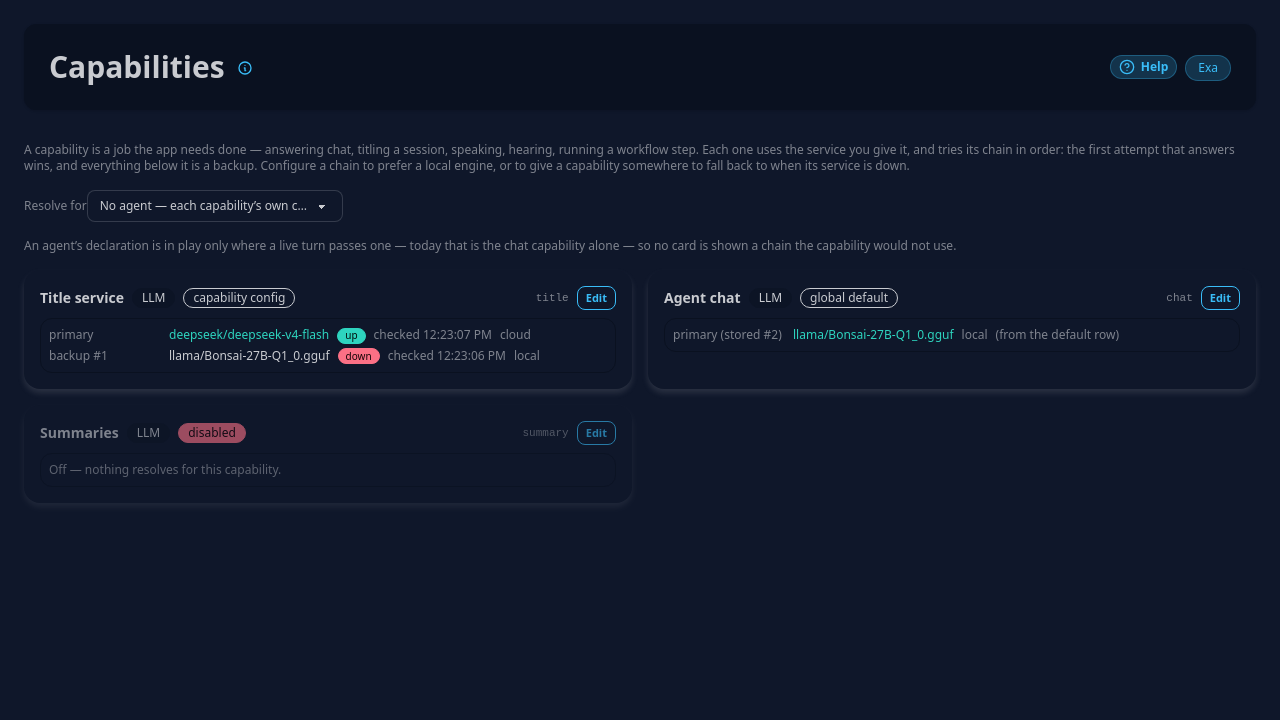
Test: ProviderCapabilities (the editor) › picks an attempt’s MODEL from the curated list for its provider, sending the model id
This screenshot has width=1280, height=720.
Later steps or results of the test are not shown.
Click the button "Edit" in the row of "capability config" at [596, 298], box [577,286,616,310]
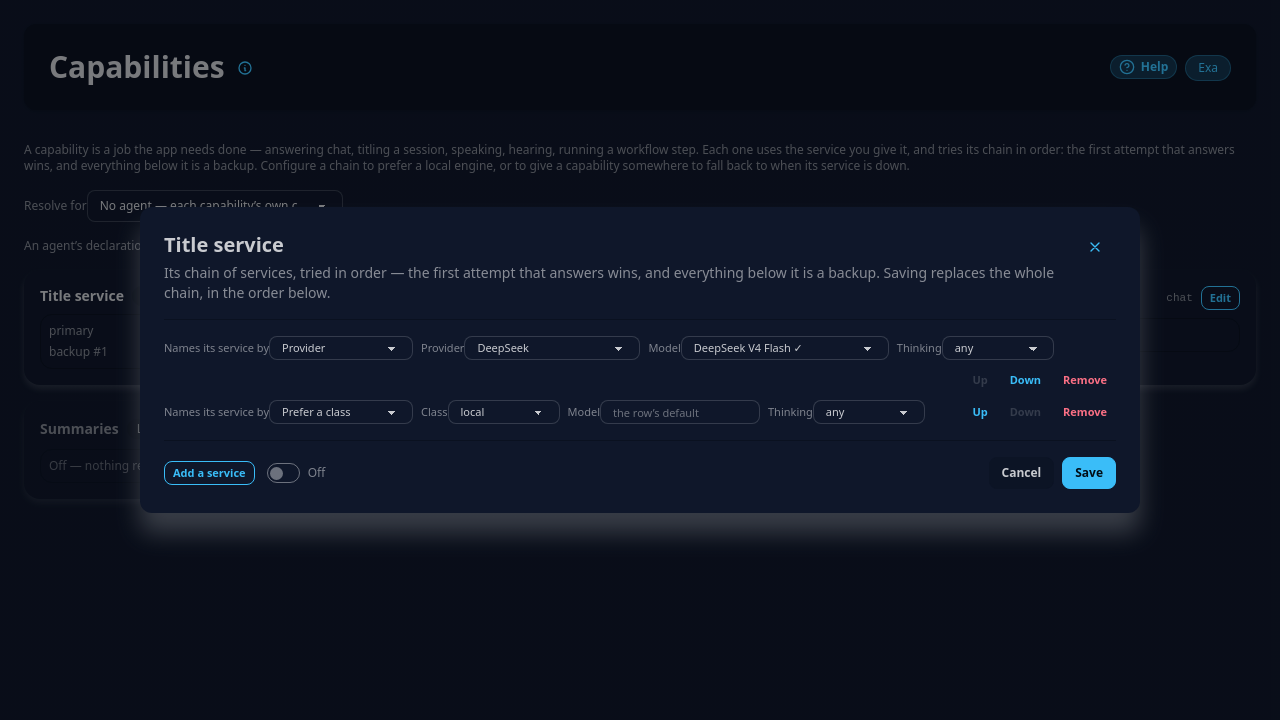
Now the dropdown named "Attempt 1: model" shows "DeepSeek V4 Flash ✓", box [681,336,889,360]
